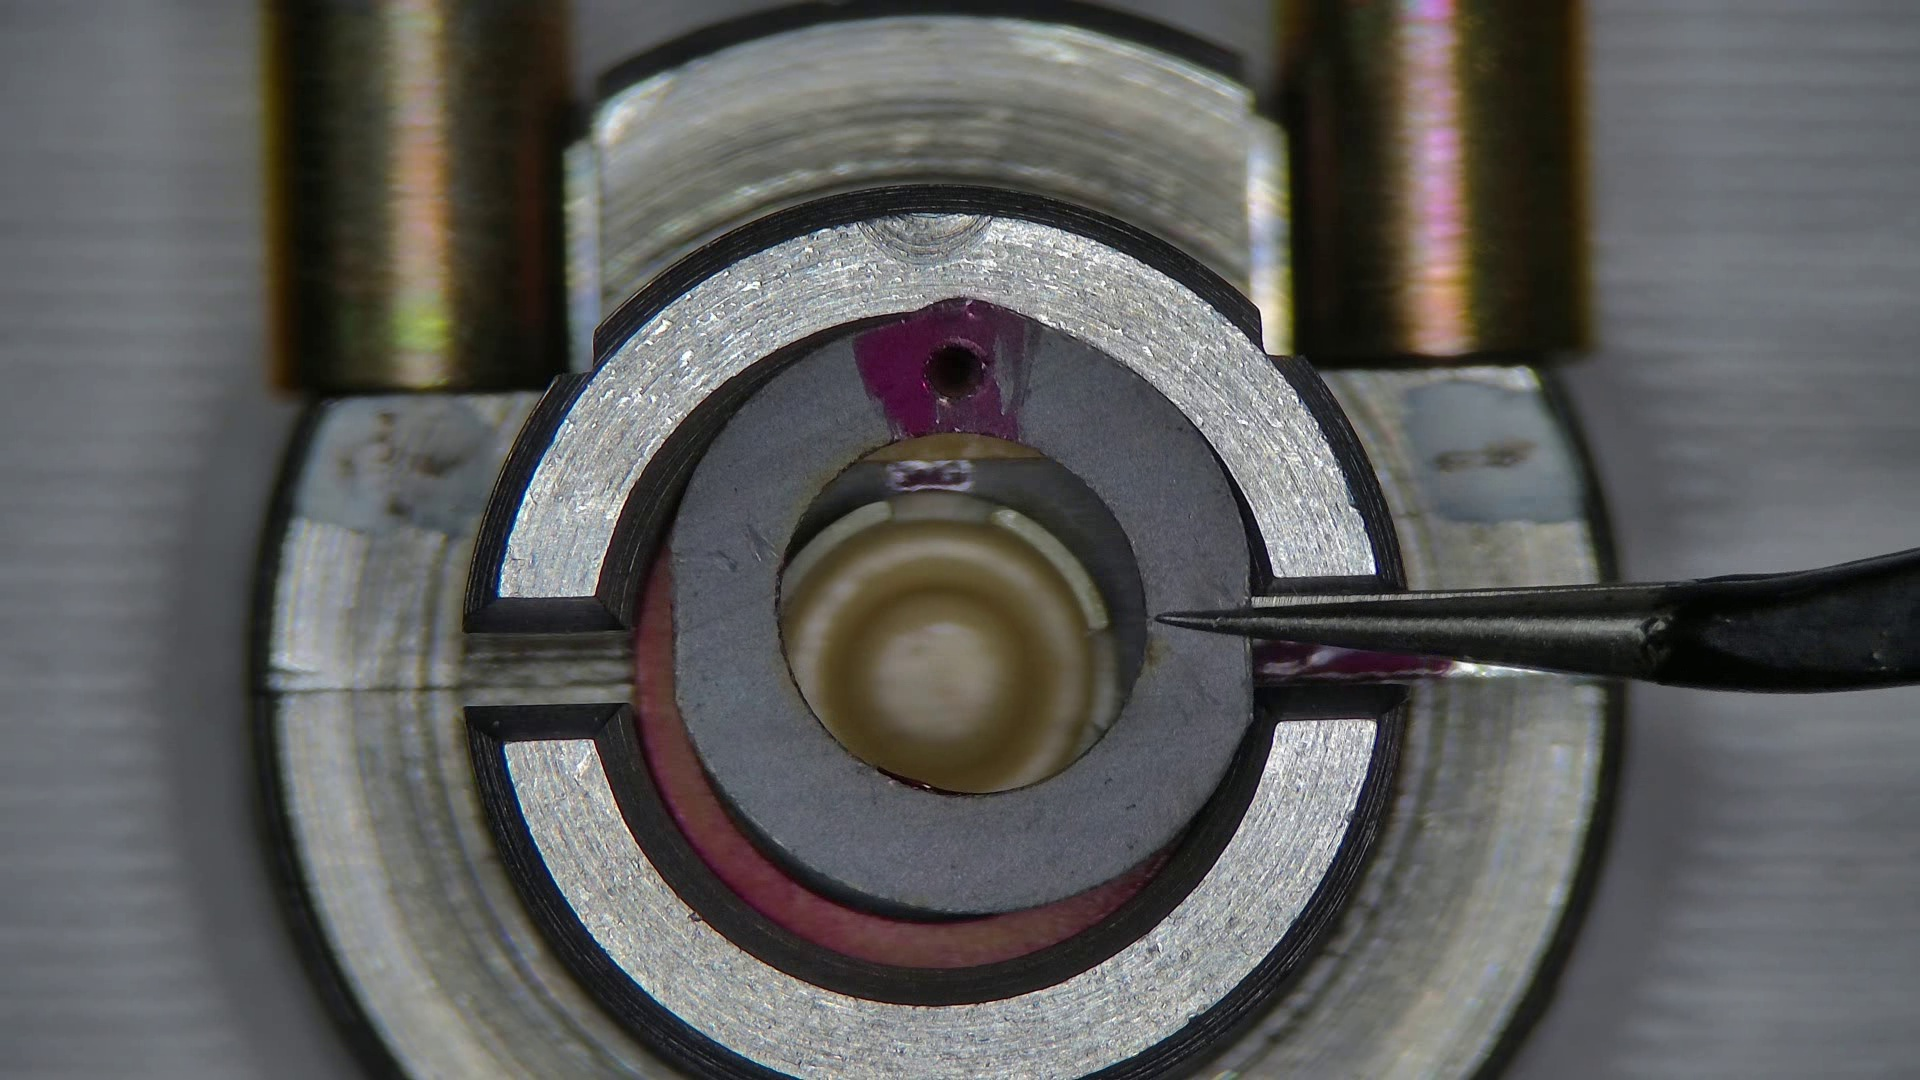GreyOring: (640, 564, 1156, 964)
YellowOring: (670, 305, 1255, 914), (810, 458, 1145, 675), (707, 775, 922, 916), (1253, 305, 1255, 307)
redOring: (865, 431, 1038, 462)
